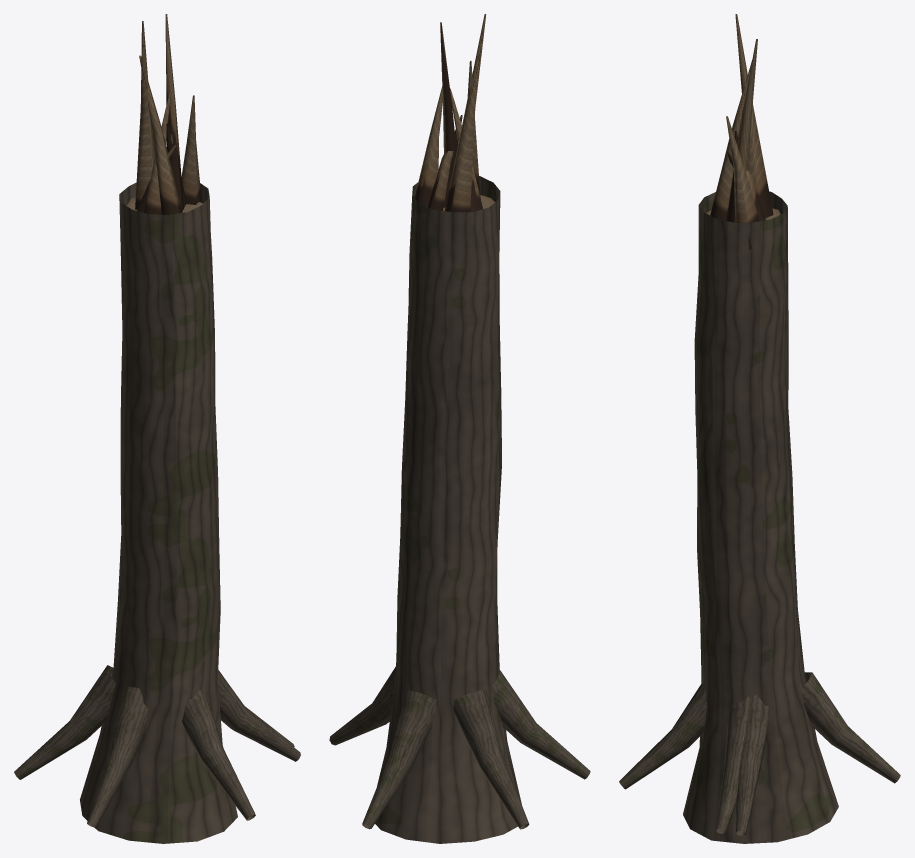
File: S7U_Tree_Stump_B.fbx
The picture shows the model from 3 angles, left to right: view 1: azimuth 30°, elevation 25°; view 2: azimuth 150°, elevation 25°; view 3: azimuth 270°, elevation 25°; orthographic projection. The views are drawn at different scales.
Visible parts, largest first — view 1: S7U_Tree_Stump_B; view 2: S7U_Tree_Stump_B; view 3: S7U_Tree_Stump_B.
Part boxes in pixels (box(x1,y1,x2,y2)): S7U_Tree_Stump_B: box(14, 14, 300, 843); S7U_Tree_Stump_B: box(329, 14, 590, 843); S7U_Tree_Stump_B: box(619, 14, 900, 843).
Size of the model in its own units: 1.15 by 3.71 by 1.2.
